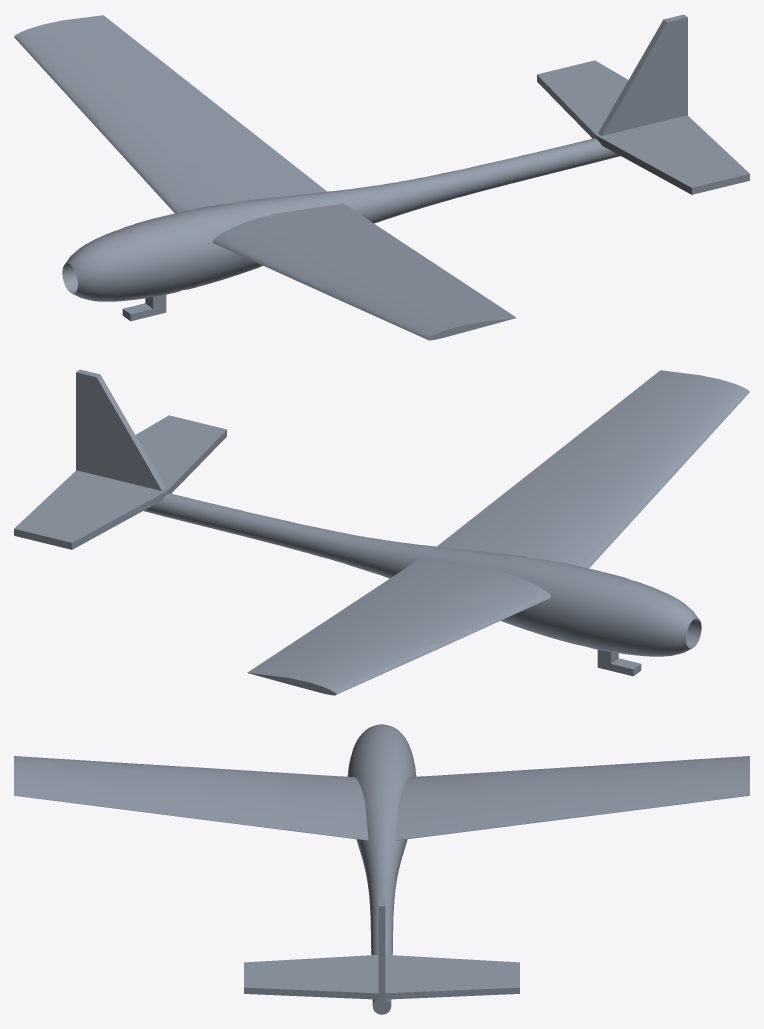
Rendered from step-5-preview-1.glb.
3 renders of one model, top to bottom at view 1: azimuth 30°, elevation 25°; view 2: azimuth 150°, elevation 25°; view 3: azimuth 270°, elevation 25°, orthographic. The views are drawn at different scales.
Parts seen in each view (by area): view 1: preview_19, preview_1, preview_18, preview_24, preview_26, preview_5, preview_33; view 2: preview_18, preview_1, preview_19, preview_24, preview_28, preview_13, preview_33; view 3: preview_18, preview_19, preview_24, preview_1, preview_7, preview_11, preview_27.
Part boxes in pixels (<box>): preview_19: <box>14,15,326,213</box>; preview_1: <box>65,138,620,301</box>; preview_18: <box>212,203,515,339</box>; preview_24: <box>537,60,749,187</box>; preview_26: <box>602,17,687,135</box>; preview_5: <box>596,135,691,194</box>; preview_33: <box>598,19,666,135</box>; preview_18: <box>437,370,749,568</box>; preview_1: <box>143,493,698,656</box>; preview_19: <box>248,558,551,694</box>; preview_24: <box>14,415,226,542</box>; preview_28: <box>76,372,161,490</box>; preview_13: <box>72,490,167,549</box>; preview_33: <box>97,374,165,490</box>; preview_18: <box>14,756,368,840</box>; preview_19: <box>395,756,749,840</box>; preview_24: <box>244,955,519,993</box>; preview_1: <box>347,724,416,1005</box>; preview_7: <box>244,987,379,999</box>; preview_11: <box>384,987,519,999</box>; preview_27: <box>378,906,385,997</box>.
Size of the model in its own units: 0.1376 by 0.0355 by 0.16.
